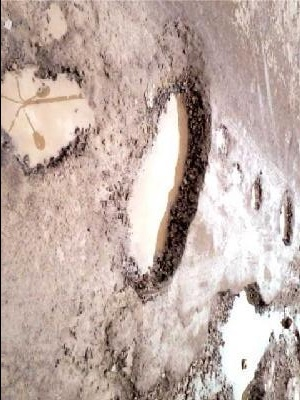pothole: (109, 18, 214, 297), (139, 278, 300, 400), (1, 59, 101, 178), (107, 338, 138, 400), (275, 187, 296, 244), (45, 0, 70, 43), (214, 122, 232, 159), (225, 161, 245, 190), (248, 174, 263, 211)
